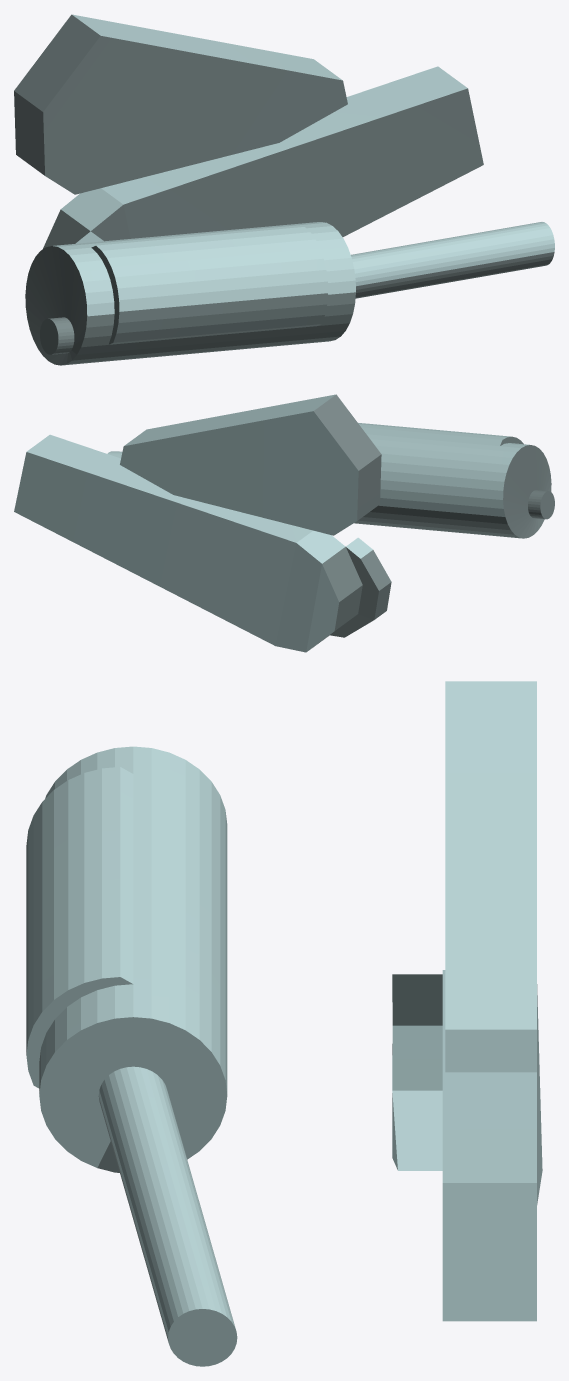
File: HN-Dio_stock_ForkR.fbx
The picture shows the model from 3 angles, top to bottom: view 1: azimuth 30°, elevation 25°; view 2: azimuth 150°, elevation 25°; view 3: azimuth 270°, elevation 25°; orthographic projection. The views are drawn at different scales.
Visible parts, largest first — view 1: ForkR; view 2: ForkR; view 3: ForkR.
Boxes of the visible parts, x1,y1,x2,y2 form: ForkR: (14, 14, 554, 365); ForkR: (14, 394, 554, 652); ForkR: (26, 681, 542, 1366).
Bounding box in the file's own units: 28.74 × 54.94 × 30.03.
